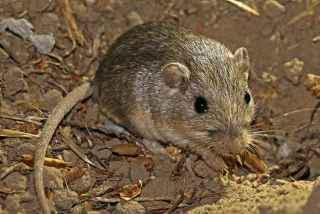rat: (35, 22, 255, 214)
